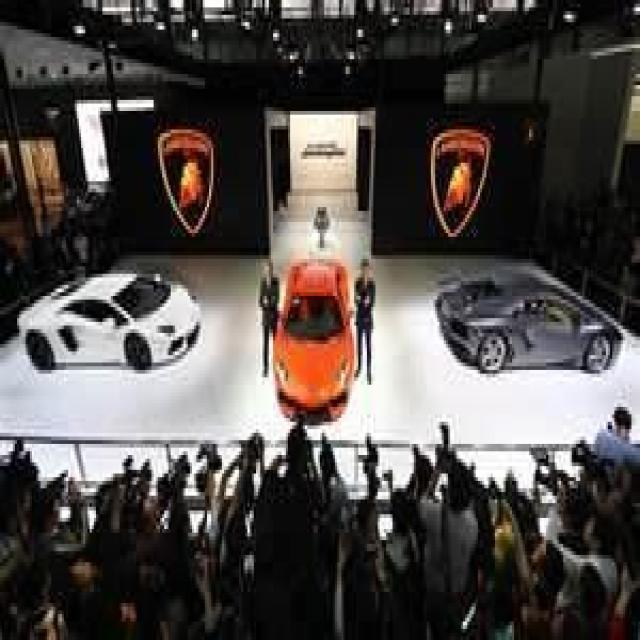Car: (17, 248, 209, 403), (420, 263, 632, 392), (274, 236, 362, 436)
